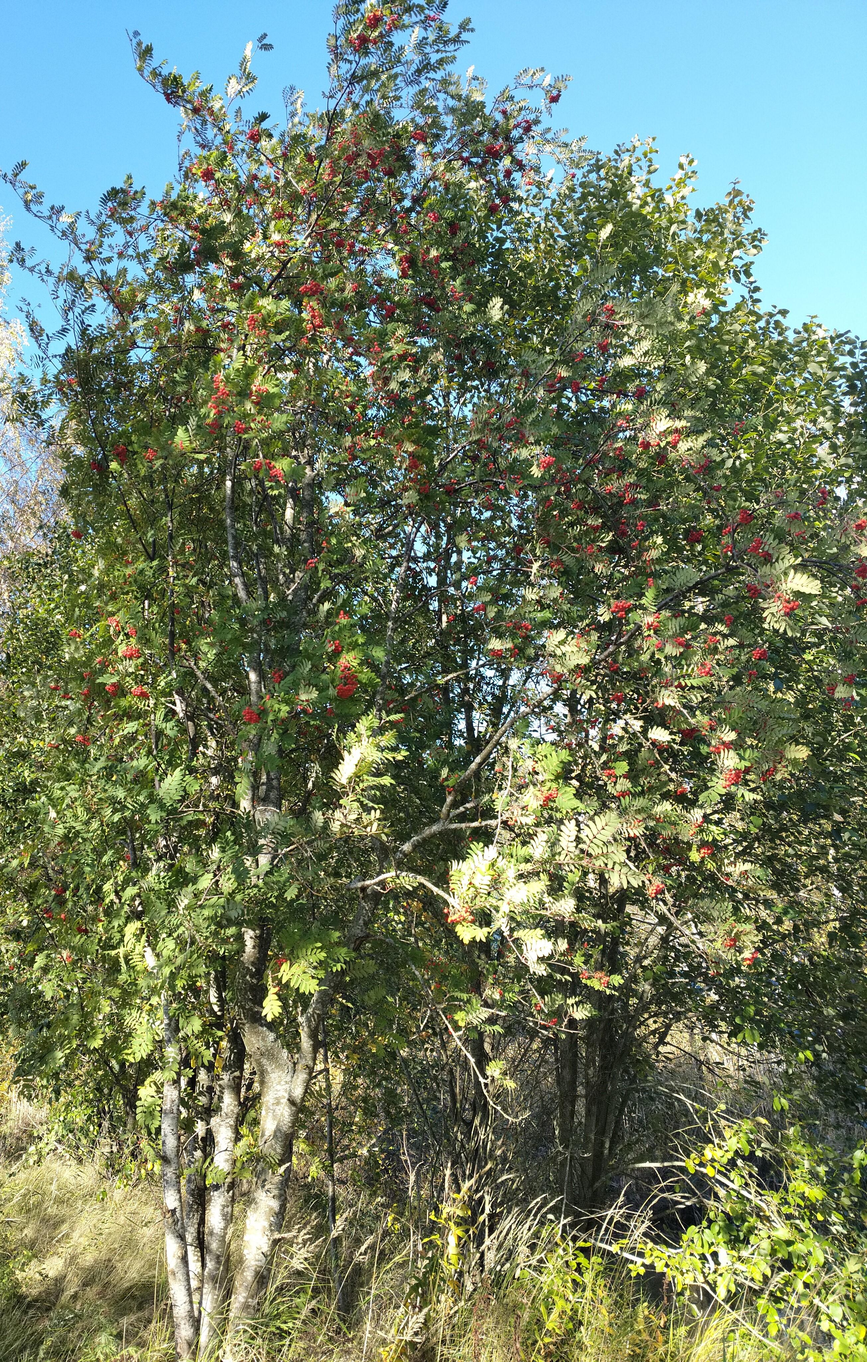Rowan: (2, 2, 865, 1358), (37, 0, 522, 1354), (379, 108, 867, 1188)
